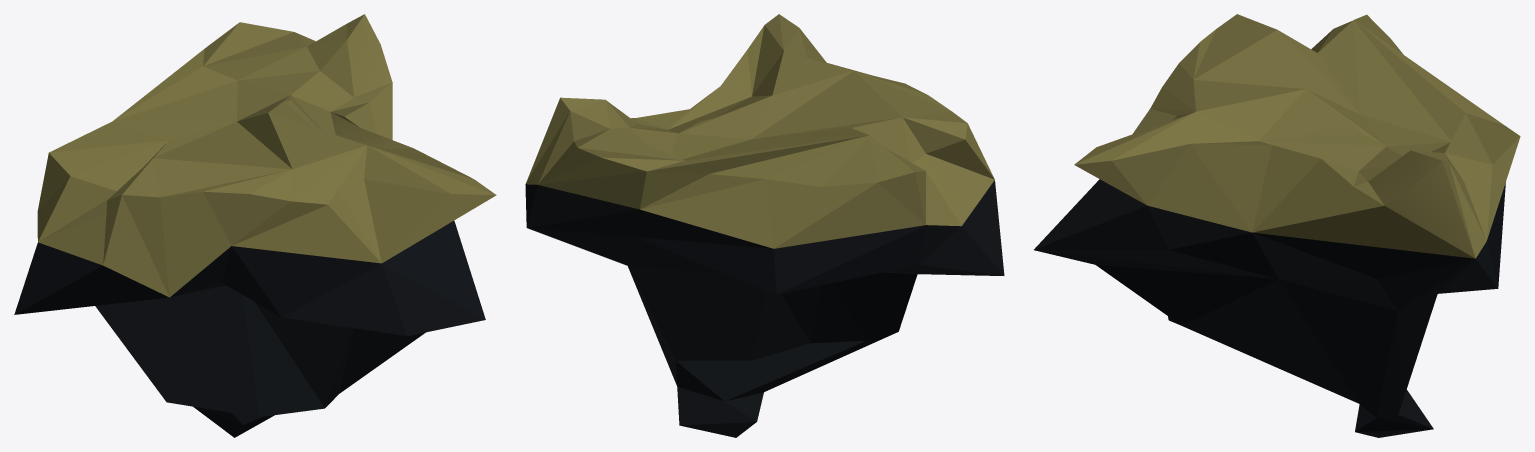
Rendered from rock021.FBX.
3 renders of one model, left to right at view 1: azimuth 30°, elevation 25°; view 2: azimuth 150°, elevation 25°; view 3: azimuth 270°, elevation 25°, orthographic. The views are drawn at different scales.
Visible parts, largest first — view 1: rock_021; view 2: rock_021; view 3: rock_021.
Part boxes in pixels (x1=…): rock_021: x1=14, y1=14, x2=496, y2=437; rock_021: x1=525, y1=14, x2=1004, y2=437; rock_021: x1=1034, y1=14, x2=1520, y2=437.
Size of the model in its own units: 16.23 by 12.64 by 15.72.
